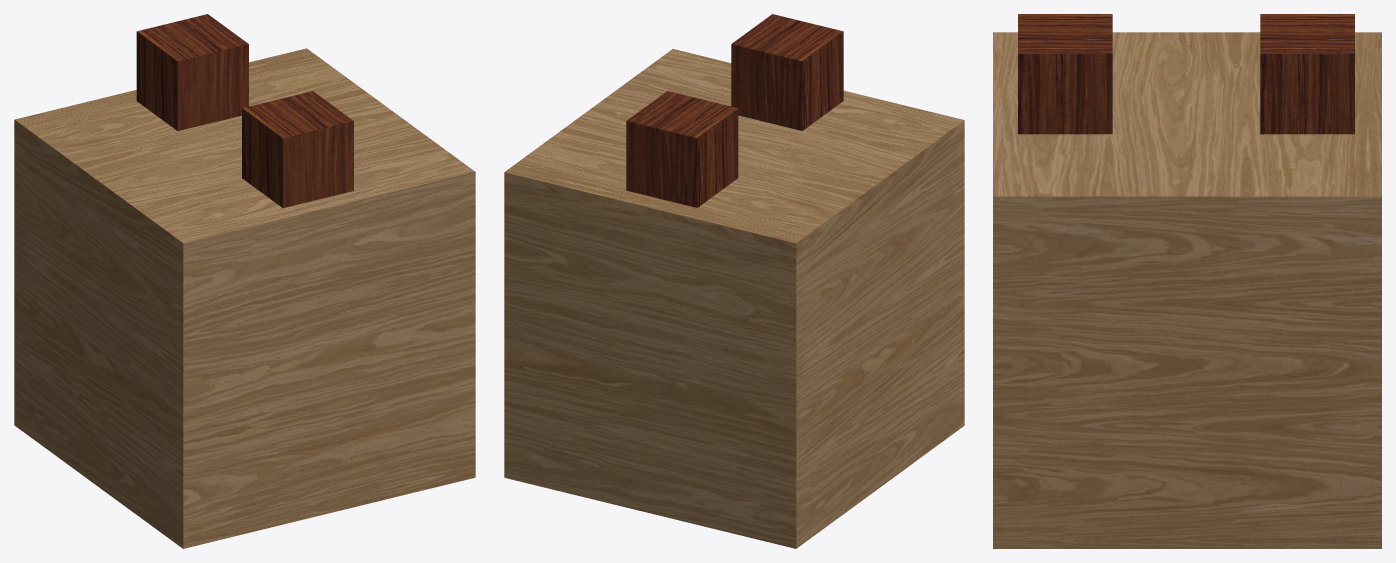
File: testModel3.glb
The picture shows the model from 3 angles, left to right: view 1: azimuth 30°, elevation 25°; view 2: azimuth 150°, elevation 25°; view 3: azimuth 270°, elevation 25°; orthographic projection. The views are drawn at different scales.
Visible parts, largest first — view 1: govde, ayak2; view 2: govde, ayak2; view 3: govde, ayak2.
Part boxes in pixels (x1,y1,x2,y2): govde: (14, 48, 475, 548); ayak2: (136, 14, 353, 207); govde: (504, 49, 964, 548); ayak2: (626, 14, 843, 207); govde: (993, 32, 1381, 548); ayak2: (1018, 14, 1354, 134).
Size of the model in its own units: 2 by 2.46 by 2.
2 materials, 2 textured.
